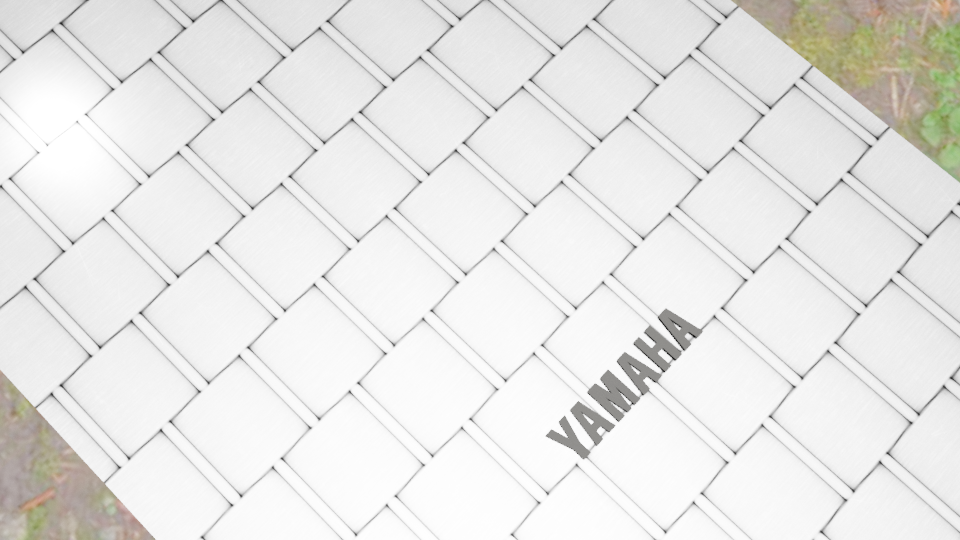yamaha_letters: (544, 307, 704, 459)
